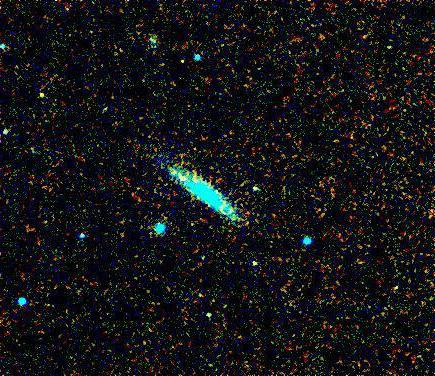star: (25, 83, 55, 113)
